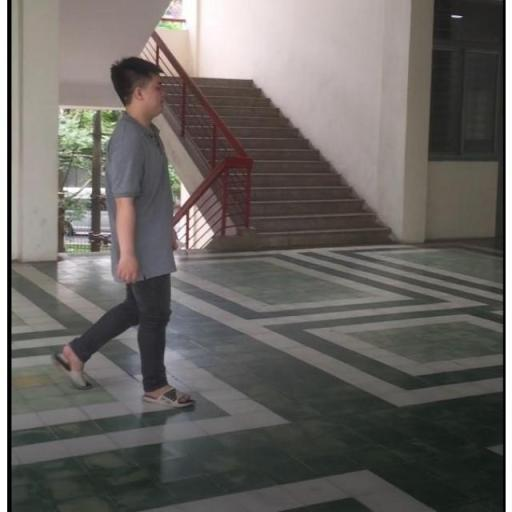Running: (47, 50, 204, 418)
